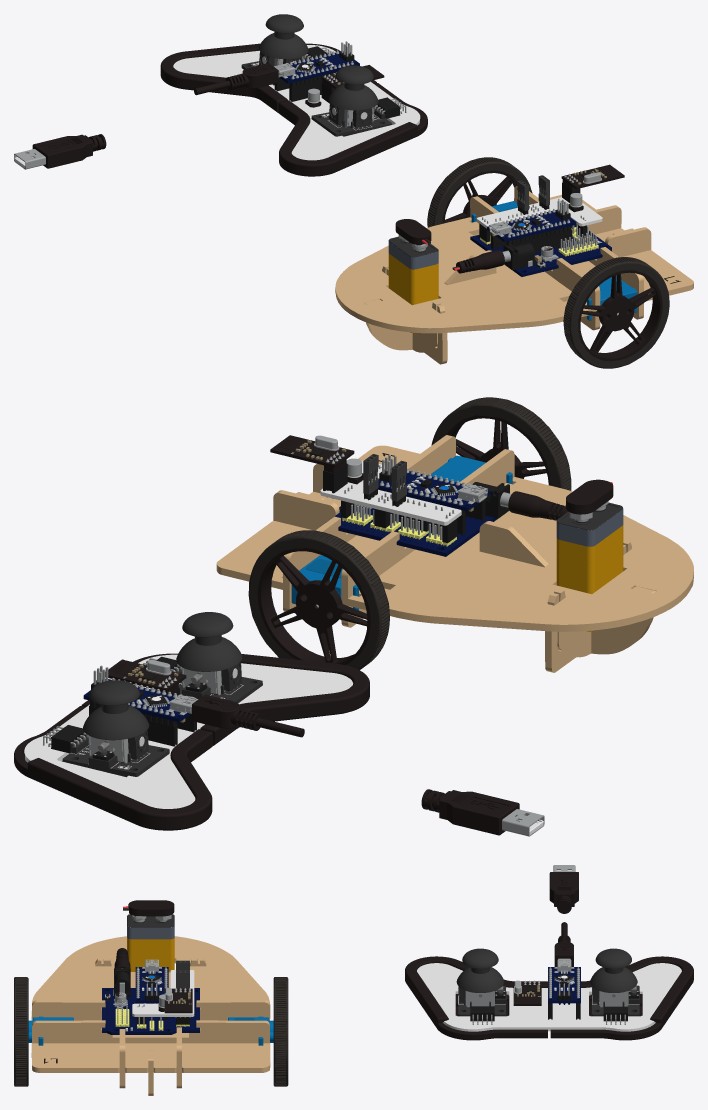
3 views of the same model, one above another, from view 1: azimuth 30°, elevation 25°; view 2: azimuth 150°, elevation 25°; view 3: azimuth 270°, elevation 25° (orthographic). The views are drawn at different scales.
Visible parts, largest first — view 1: NAUO1, NAUO167 (×2), NAUO166 (×2), NAUO50, NAUO25, NAUO126 (×2), NAUO157 (×2), NAUO14, NAUO24, USBCableend, NAUO4, NAUO2 (+14 smaller); view 2: NAUO1, NAUO167 (×2), NAUO166 (×2), NAUO50, NAUO24, NAUO157 (×2), NAUO14, NAUO126 (×2), NAUO25, USBCableend, NAUO2, NAUO4 (+16 smaller); view 3: NAUO1, NAUO50, NAUO5, NAUO167 (×2), NAUO157 (×2), NAUO25, NAUO24, NAUO4, NAUO126 (×2), NAUO14, NAUO82, USBCableend (+12 smaller).
Boxes of the visible parts, box(x1,y1,x2,y2) form: NAUO1: box(335, 194, 693, 333); NAUO167 (×2): box(427, 157, 669, 368); NAUO166 (×2): box(442, 170, 662, 361); NAUO50: box(173, 45, 420, 160); NAUO25: box(278, 83, 427, 176); NAUO126 (×2): box(274, 41, 576, 244); NAUO157 (×2): box(258, 14, 378, 110); NAUO14: box(388, 236, 438, 333); NAUO24: box(160, 43, 376, 112); USBCableend: box(14, 134, 106, 169); NAUO4: box(470, 196, 600, 330); NAUO2: box(364, 228, 633, 350); NAUO1: box(216, 445, 693, 631); NAUO167 (×2): box(248, 397, 571, 670); NAUO166 (×2): box(257, 415, 550, 665); NAUO50: box(24, 654, 353, 808); NAUO24: box(14, 706, 212, 830); NAUO157 (×2): box(83, 612, 242, 740); NAUO14: box(556, 501, 623, 631); NAUO126 (×2): box(83, 454, 490, 726); NAUO25: box(81, 653, 369, 745); USBCableend: box(421, 789, 544, 836); NAUO2: box(296, 492, 655, 654); NAUO4: box(341, 449, 514, 627); NAUO1: box(31, 936, 270, 1072); NAUO50: box(417, 963, 681, 1029); NAUO5: box(32, 1020, 269, 1072); NAUO167 (×2): box(14, 977, 288, 1086); NAUO157 (×2): box(456, 948, 637, 992); NAUO25: box(405, 956, 547, 1040); NAUO24: box(550, 956, 693, 1040); NAUO4: box(31, 1000, 270, 1020); NAUO126 (×2): box(135, 959, 580, 1005); NAUO14: box(127, 914, 174, 972); NAUO82: box(102, 988, 199, 1034); USBCableend: box(549, 865, 578, 913).
Bounding box in the file's own units: 239 × 71.75 × 371.
